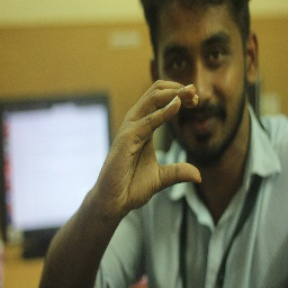C: (123, 74, 208, 193)
